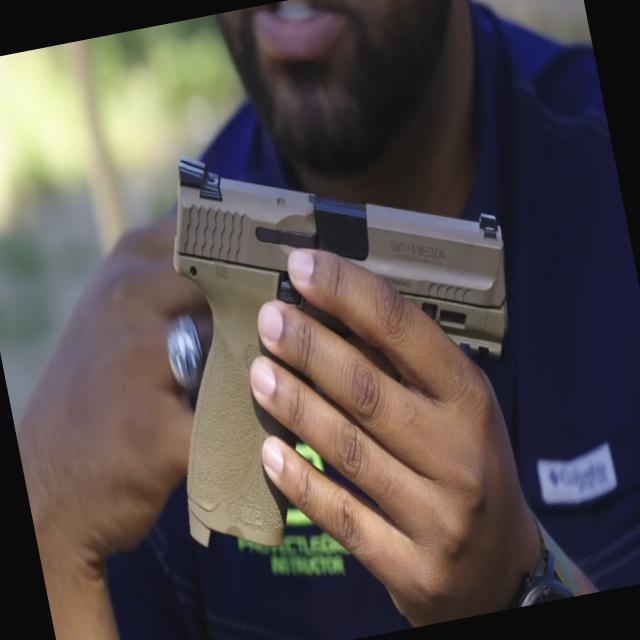handgun: (91, 37, 602, 582)
